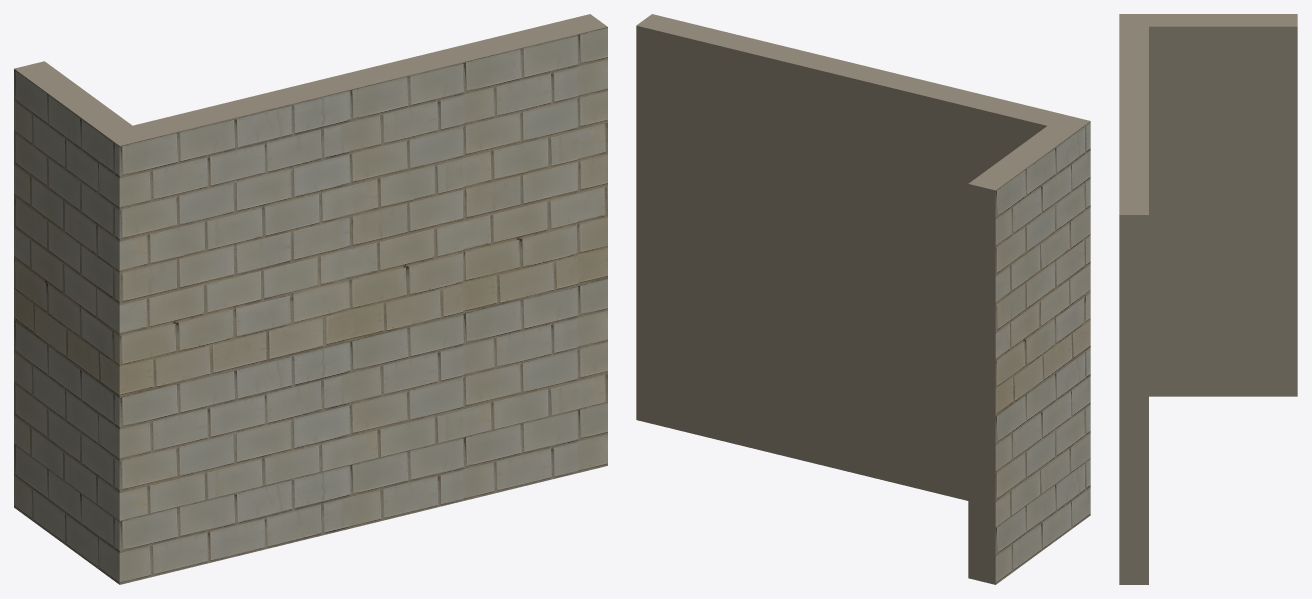
The picture shows the model from 3 angles, left to right: view 1: azimuth 30°, elevation 25°; view 2: azimuth 150°, elevation 25°; view 3: azimuth 270°, elevation 25°; orthographic projection. The views are drawn at different scales.
Parts seen in each view (by area): view 1: wall; view 2: wall; view 3: wall.
Boxes of the visible parts, x1=… form: wall: x1=14, y1=14, x2=607, y2=584; wall: x1=636, y1=14, x2=1090, y2=584; wall: x1=1119, y1=14, x2=1297, y2=584.
Size of the model in its own units: 32 by 27.5 by 12.
